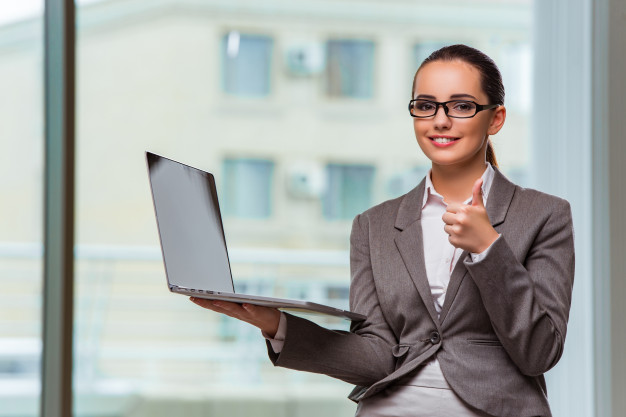thumbsup: (442, 177, 485, 249)
